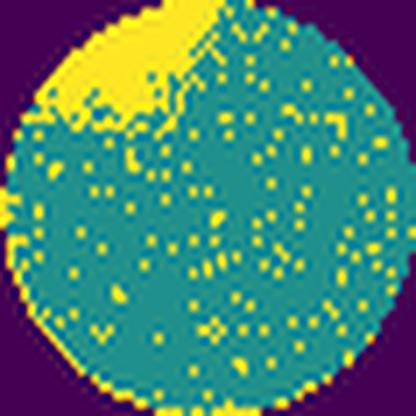Edge-Loc: (30, 0, 231, 138)
